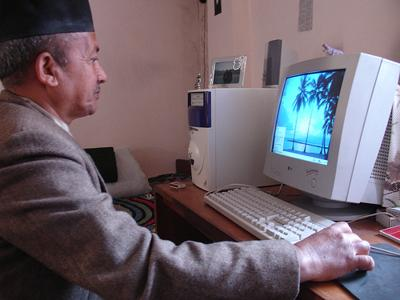person: (1, 1, 376, 300)
